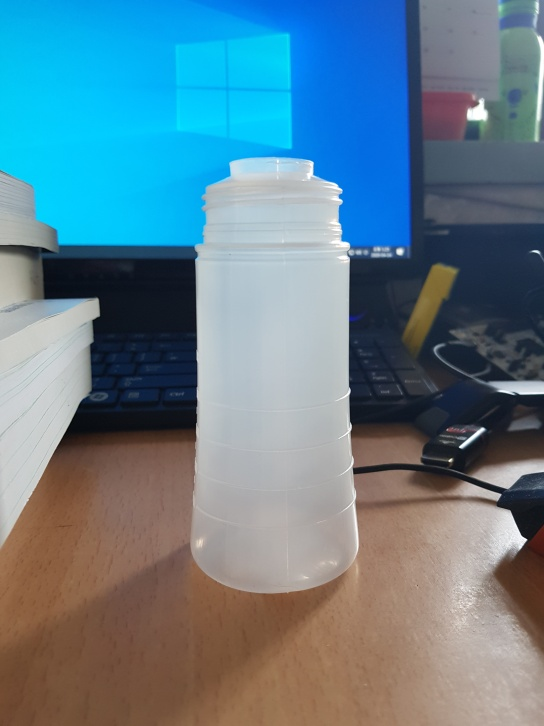Plastic: (188, 153, 364, 597)
